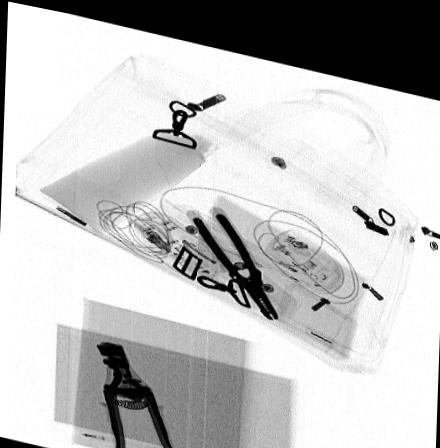Pliers: (190, 200, 282, 308), (94, 335, 178, 448)
